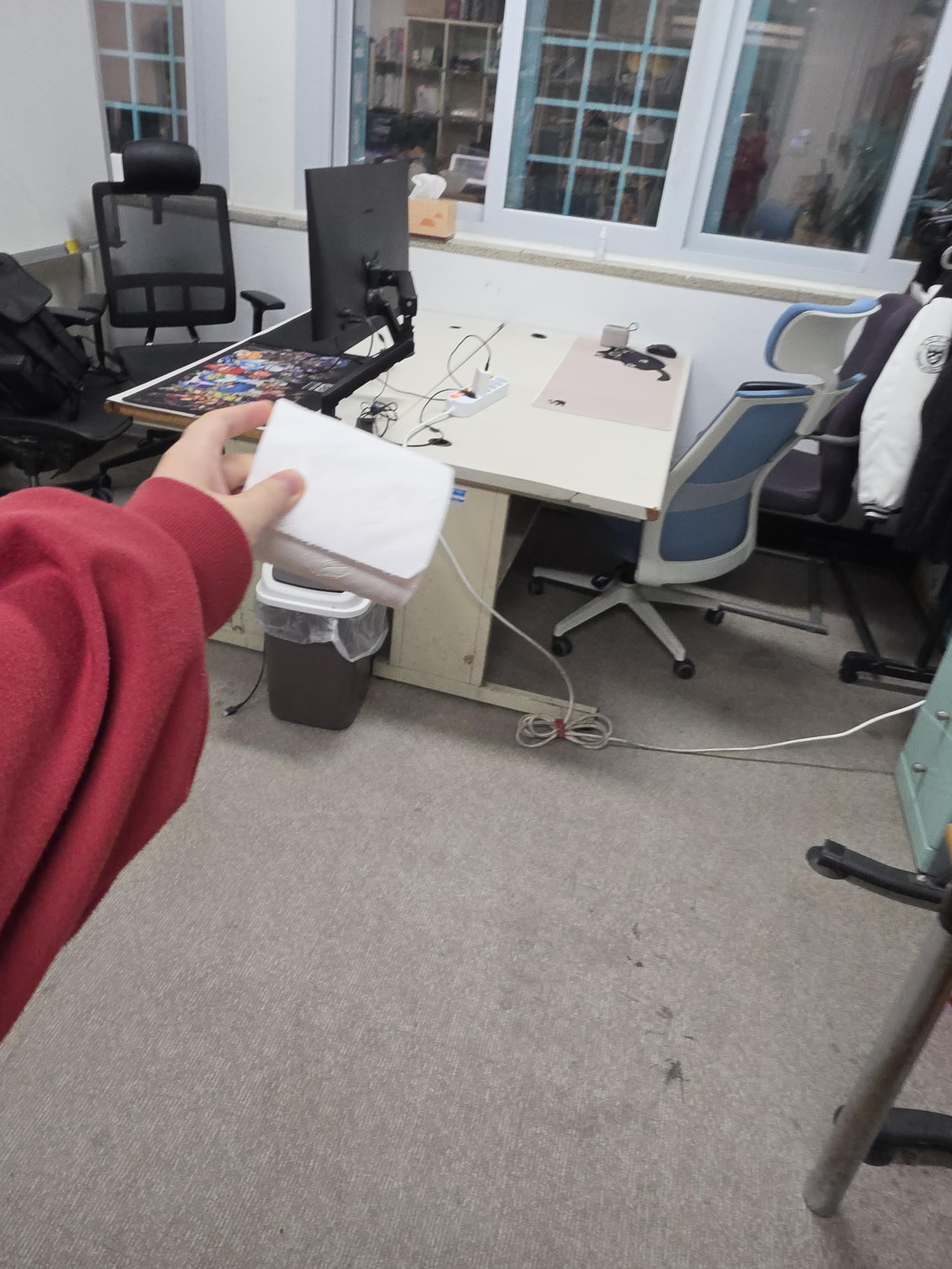tissue: (242, 398, 456, 608), (407, 172, 457, 241)
